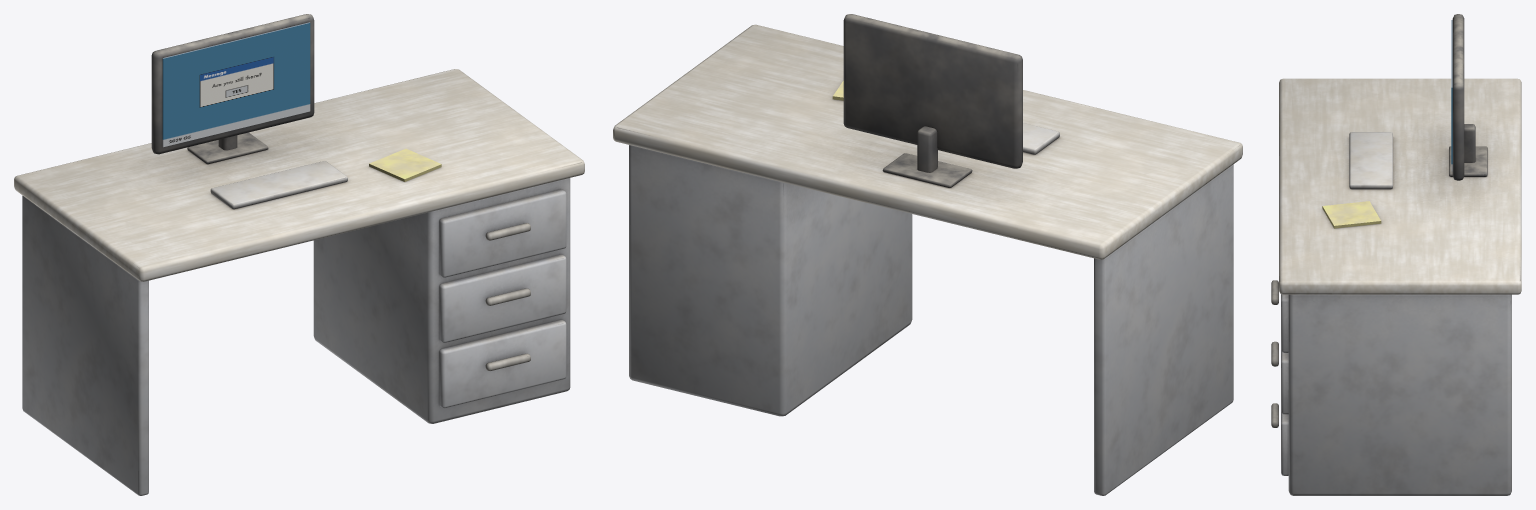
The model's file is desk.fbx.
The picture shows the model from 3 angles, left to right: view 1: azimuth 30°, elevation 25°; view 2: azimuth 150°, elevation 25°; view 3: azimuth 270°, elevation 25°; orthographic projection. The views are drawn at different scales.
Parts seen in each view (by area): view 1: Body, Screen, Drawer2, Drawer3, Drawer1; view 2: Body; view 3: Body, Drawer2, Drawer1, Drawer3, Screen.
Boxes of the visible parts, x1=… form: Body: x1=14, y1=14, x2=584, y2=495; Screen: x1=162, y1=22, x2=310, y2=147; Drawer2: x1=439, y1=254, x2=566, y2=342; Drawer3: x1=439, y1=189, x2=566, y2=277; Drawer1: x1=439, y1=320, x2=566, y2=408; Body: x1=613, y1=14, x2=1242, y2=495; Body: x1=1279, y1=14, x2=1521, y2=495; Drawer2: x1=1271, y1=341, x2=1288, y2=414; Drawer1: x1=1271, y1=403, x2=1288, y2=475; Drawer3: x1=1271, y1=280, x2=1288, y2=352; Screen: x1=1451, y1=20, x2=1452, y2=171.
Bounding box in the file's own units: 5 × 3.8 × 2.58.
2 materials, 2 textured.
